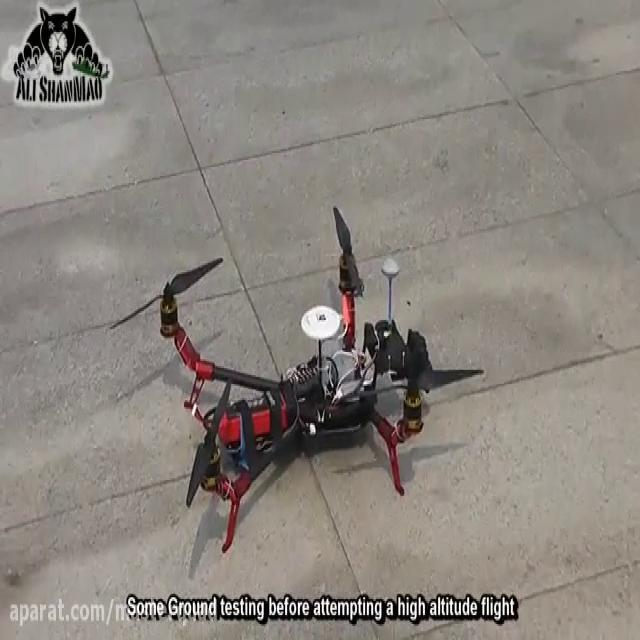drone: (106, 199, 491, 562)
